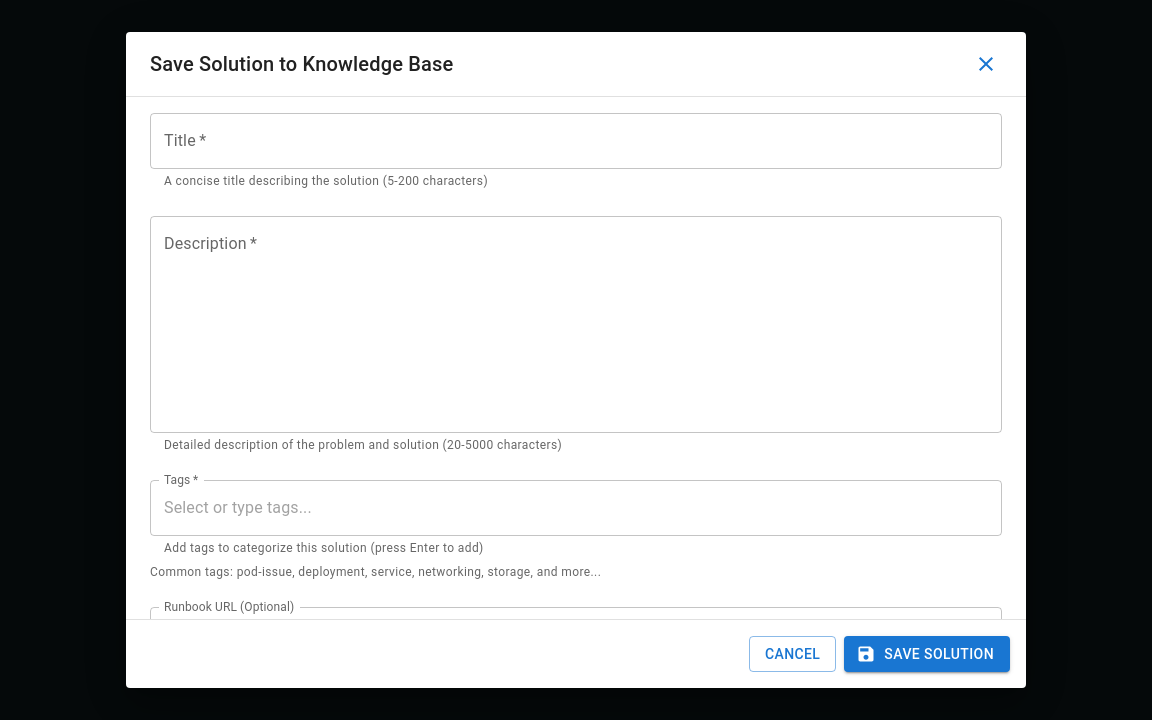
Test: SolutionSubmitDialog › Field Validation › should show error for title that is too short
The width and height of the screenshot is (1152, 720).
Type "abc" into the field labelled "Title *" at point(576, 141), box [150, 113, 1002, 169]
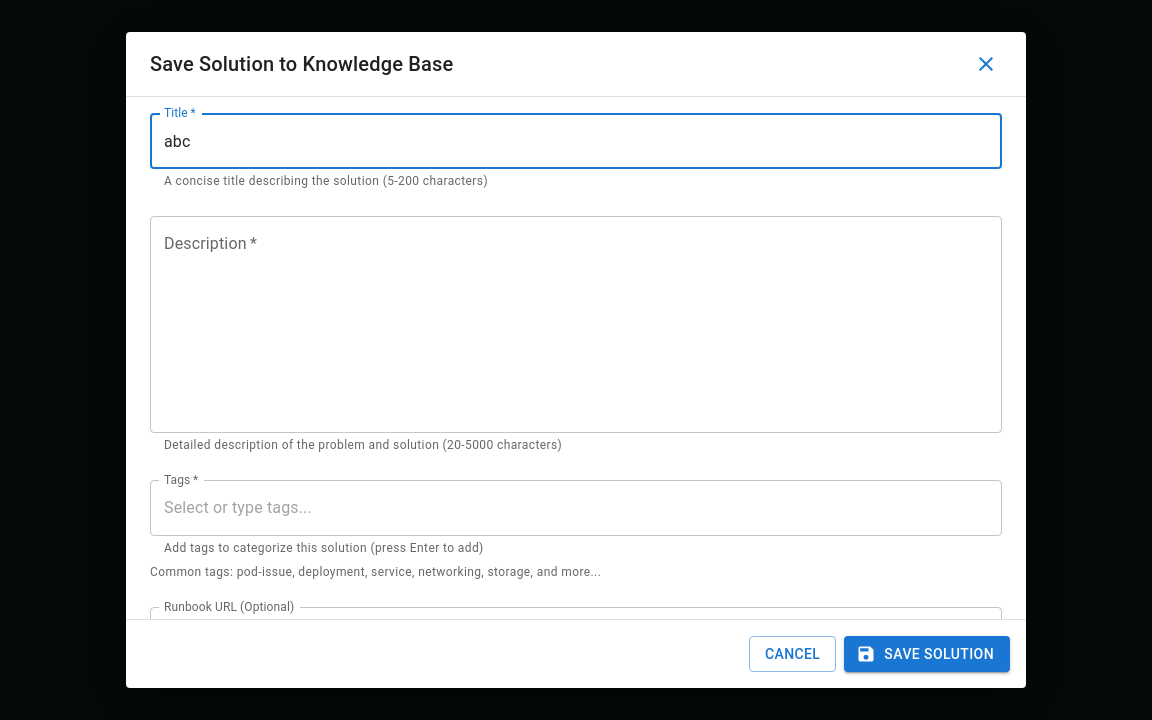
Click the button "Save Solution" at point(927, 654), box [844, 636, 1010, 672]
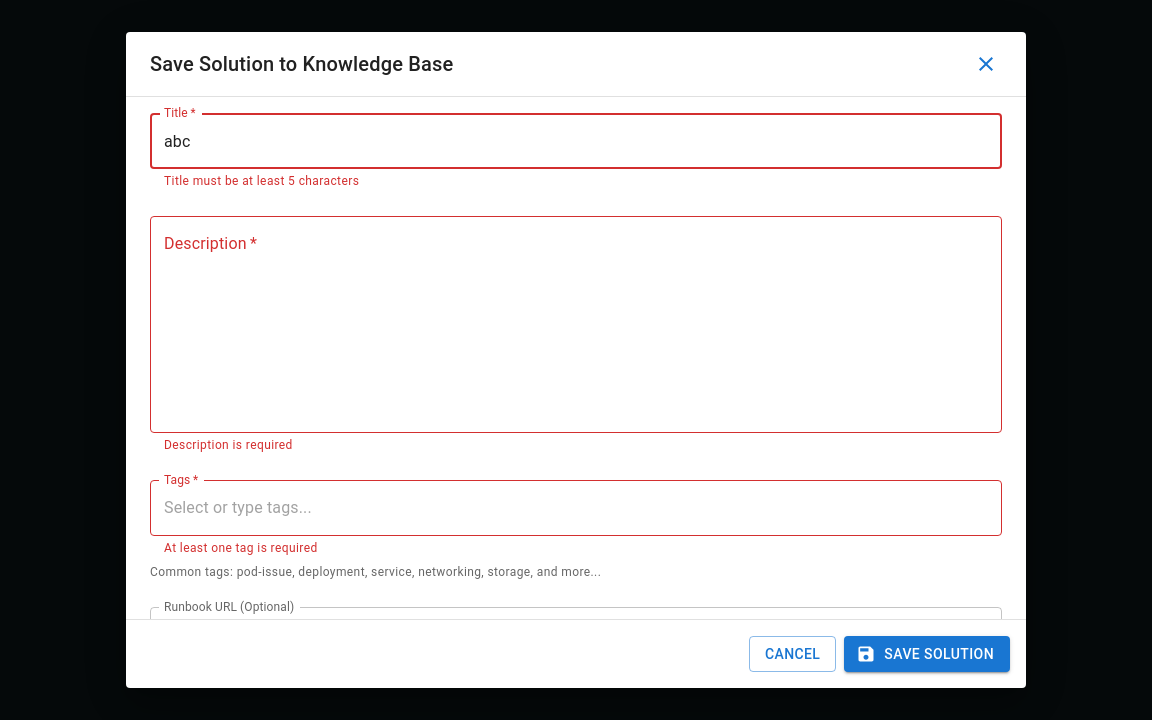
Expected: the text "Title must be at least 5 characters" is shown, [164, 174, 359, 188]
